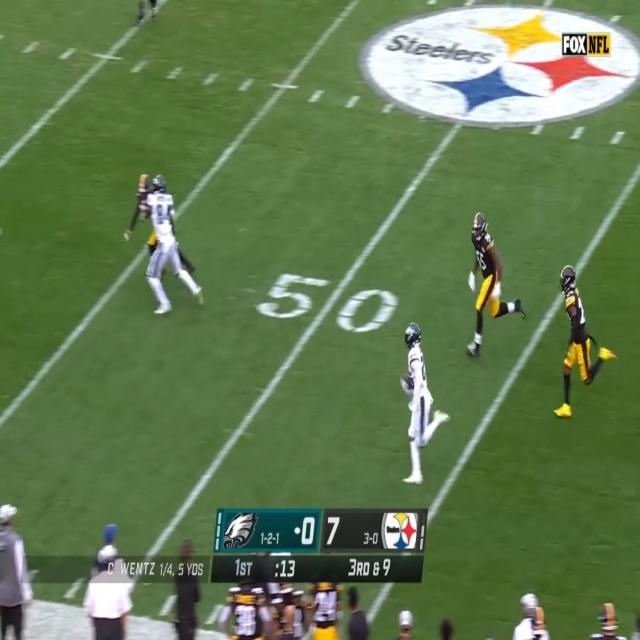football: (402, 372, 414, 390)
players: (552, 268, 618, 418), (465, 212, 527, 359), (400, 323, 451, 487), (145, 172, 204, 313), (126, 173, 194, 279)
